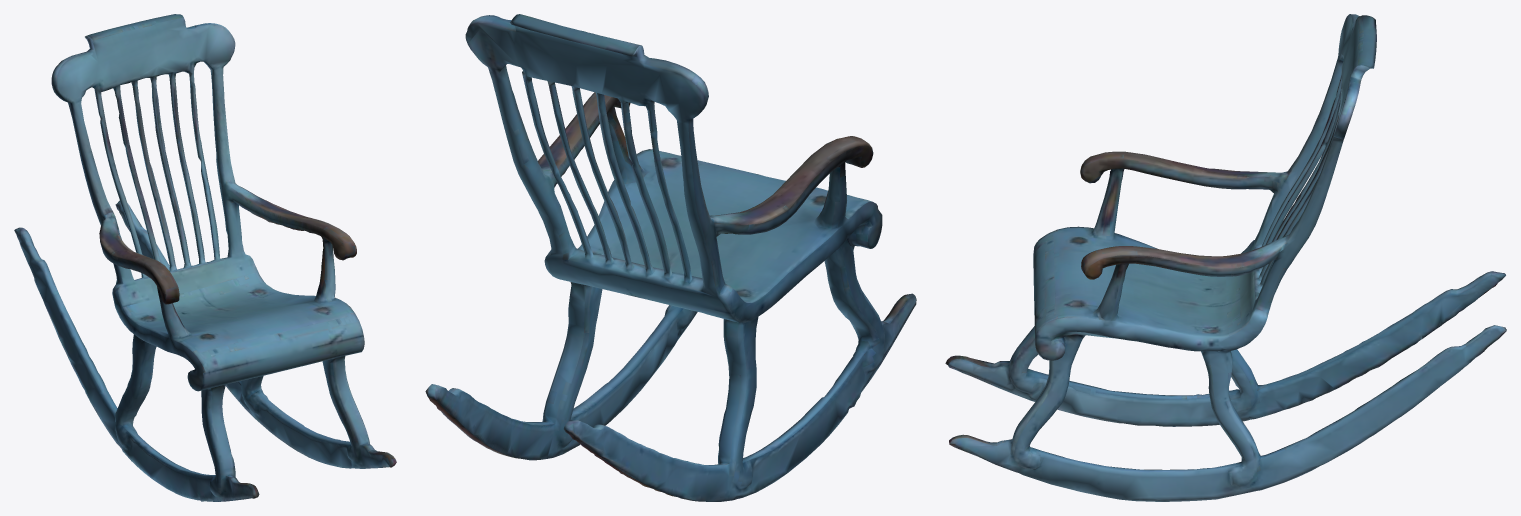
Rendered from rocker.glb.
3 renders of one model, left to right at view 1: azimuth 30°, elevation 25°; view 2: azimuth 150°, elevation 25°; view 3: azimuth 270°, elevation 25°, orthographic. The views are drawn at different scales.
Visible parts, largest first — view 1: Object_2; view 2: Object_2; view 3: Object_2.
Boxes of the visible parts, x1=… form: Object_2: x1=14, y1=14, x2=396, y2=501; Object_2: x1=425, y1=14, x2=916, y2=501; Object_2: x1=945, y1=14, x2=1506, y2=501.
Bounding box in the file's own units: 4.09 × 7.6 × 9.17.
Materials: 1 (1 with a texture image).
